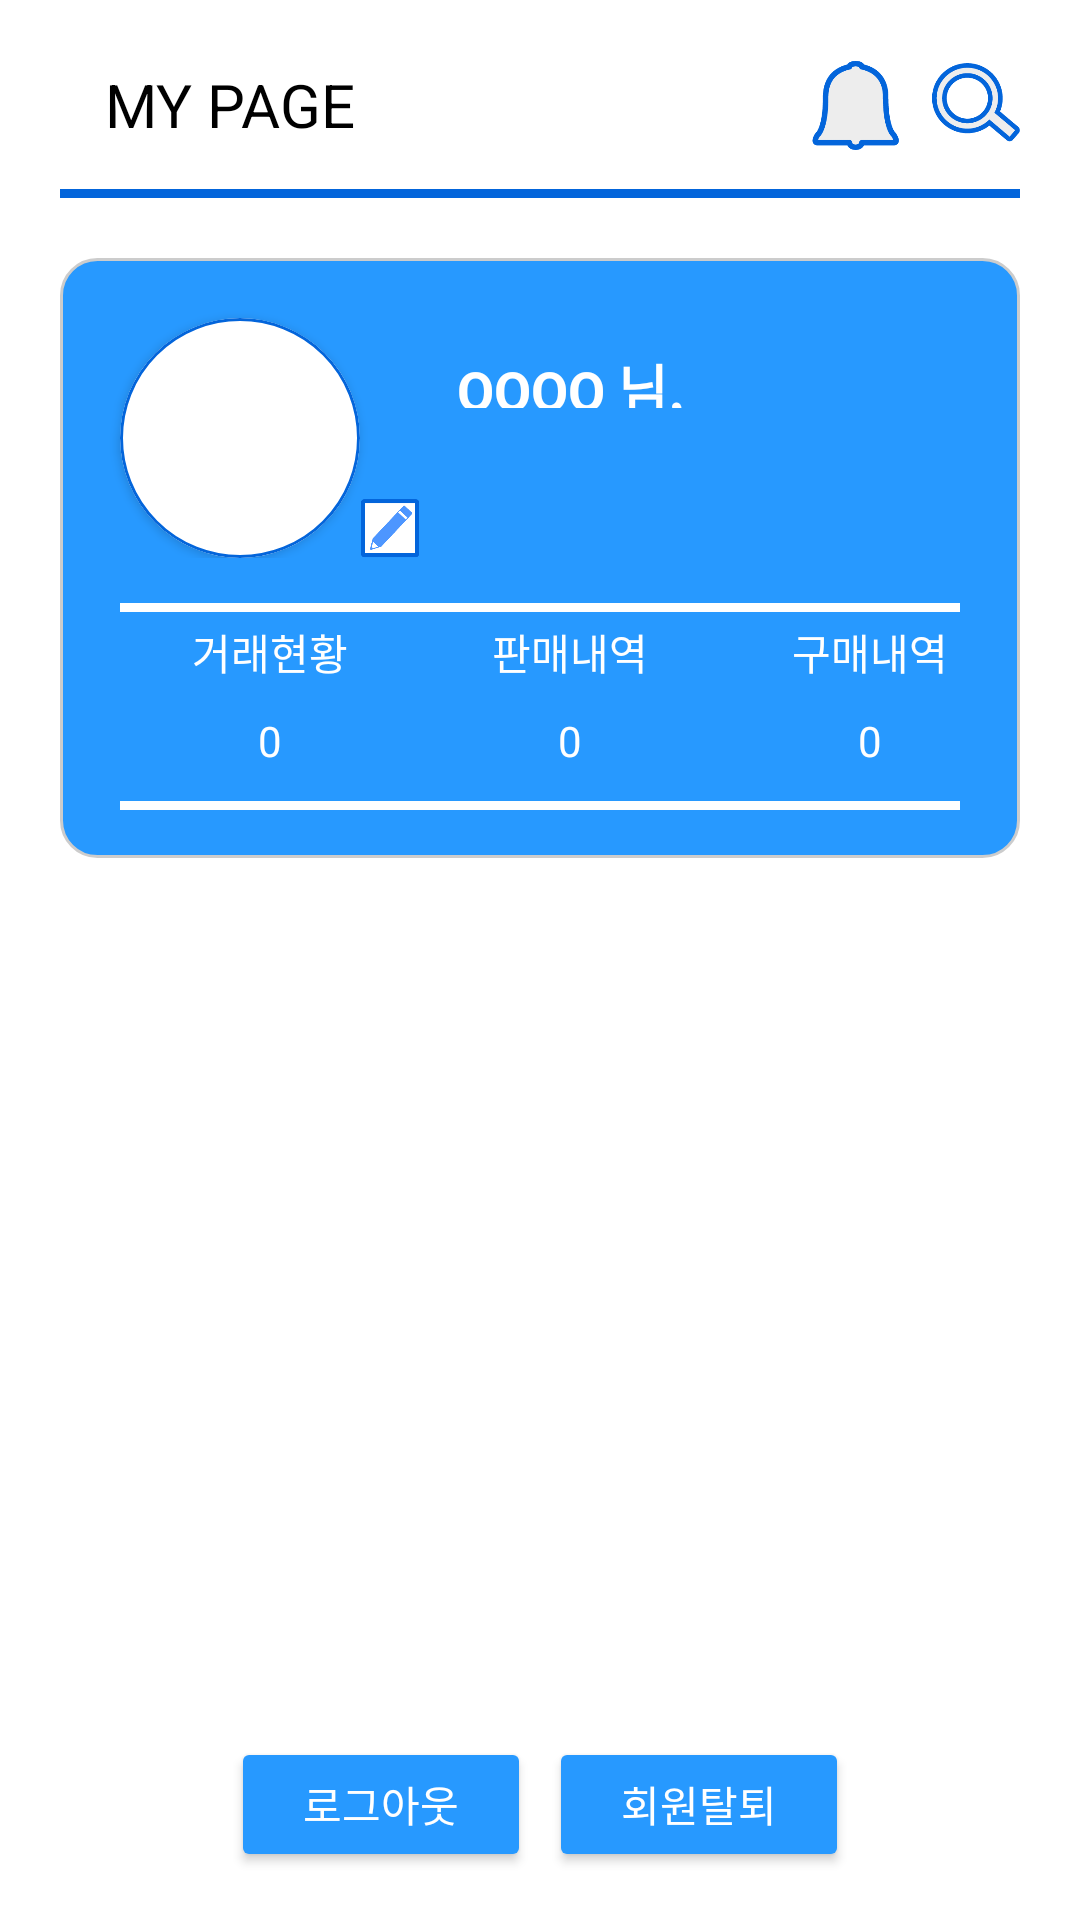

Screen size 1080 x 1920. Icon name, then its center in pixels as [x,y]:
bell: [855,105]
modify: [390,528]
search: [976,102]
